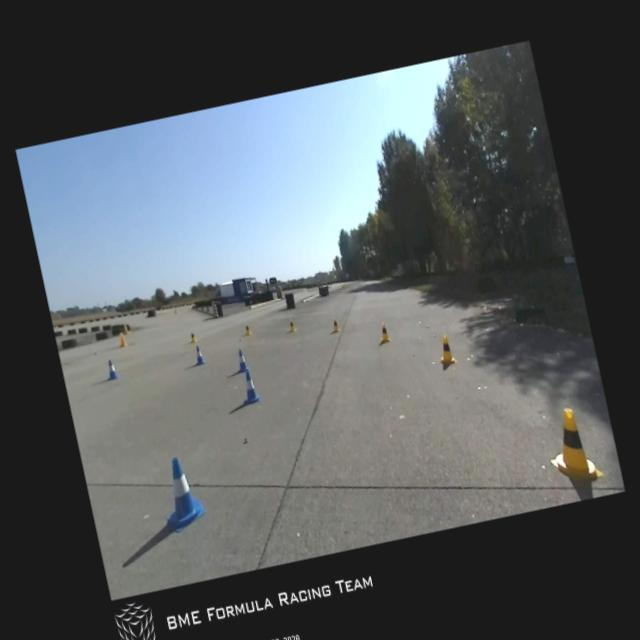blue_cone: (154, 452, 208, 532), (236, 368, 262, 404), (232, 348, 250, 373), (102, 358, 119, 381), (191, 344, 205, 366)
yellow_cone: (540, 403, 604, 487), (434, 332, 456, 366), (377, 320, 391, 342), (330, 316, 340, 332), (188, 328, 198, 342), (242, 322, 252, 336), (287, 318, 296, 332)
